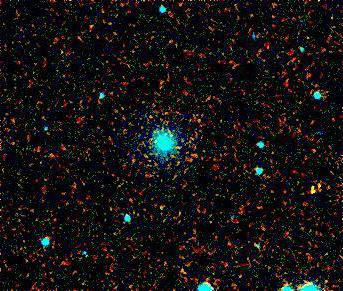star: (301, 168, 331, 198)
